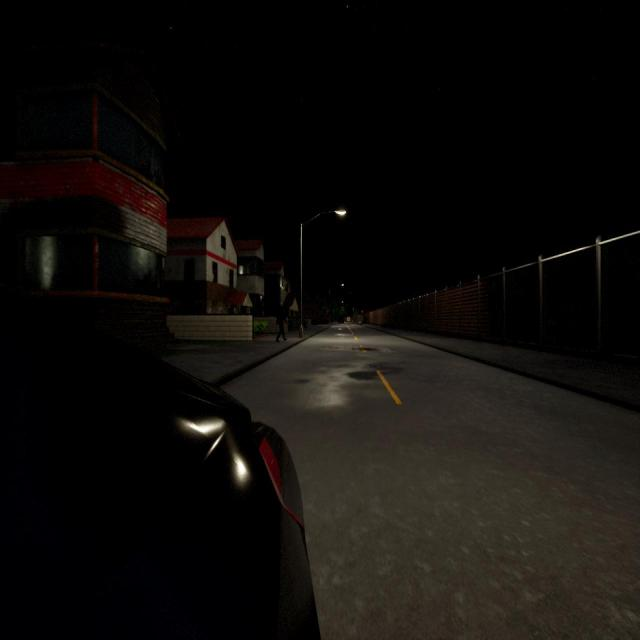Pedestrian: (276, 304, 286, 342)
Vehicle: (0, 339, 319, 637), (338, 317, 344, 324)
traffic_light: (361, 310, 363, 315)
